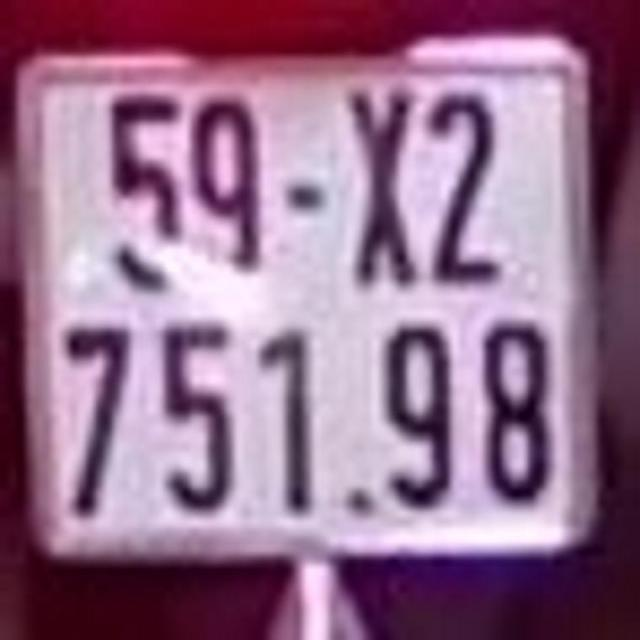1: (256, 323, 322, 519)
2: (426, 84, 498, 284)
5: (156, 312, 240, 517), (102, 89, 184, 289)
7: (59, 316, 132, 520)
8: (480, 312, 561, 512)
9: (190, 87, 266, 290), (380, 316, 450, 503)
X: (344, 81, 420, 288)
